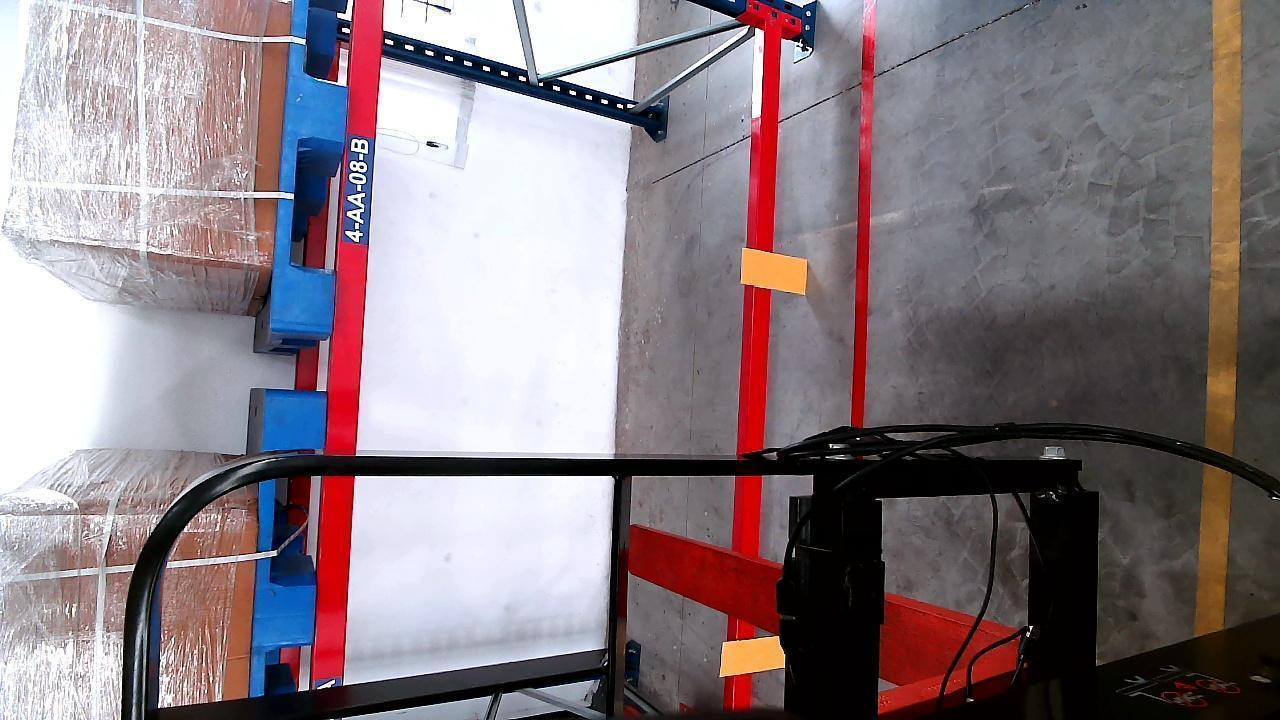red_line: (851, 15, 877, 421)
yellow_line: (1195, 1, 1243, 634)
